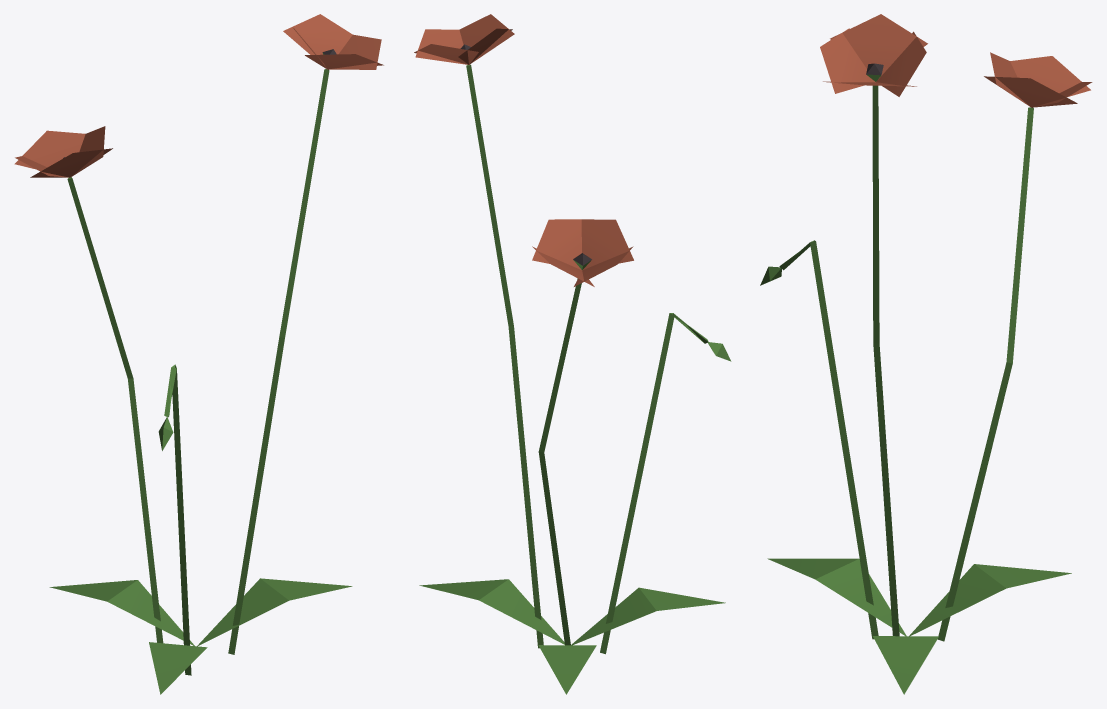
Rendered from poppy.glb.
3 renders of one model, left to right at view 1: azimuth 30°, elevation 25°; view 2: azimuth 150°, elevation 25°; view 3: azimuth 270°, elevation 25°, orthographic. The views are drawn at different scales.
Parts seen in each view (by area): view 1: poppy; view 2: poppy; view 3: poppy.
Part boxes in pixels (left/top/right/bottom): poppy: left=14, top=14, right=383, bottom=694; poppy: left=414, top=14, right=731, bottom=694; poppy: left=760, top=14, right=1092, bottom=694.
Bounding box in the file's own units: 0.2609 × 0.5438 × 0.2402.
